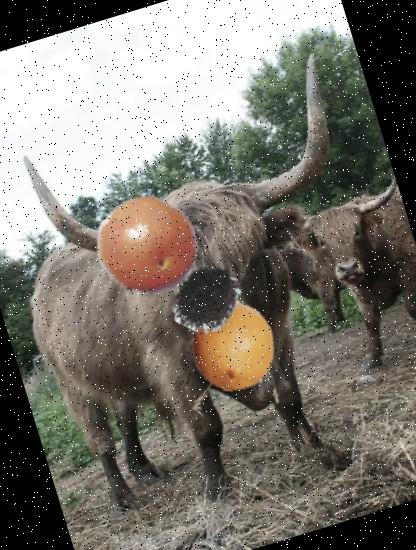Lemon: (176, 288, 290, 402)
Rambutan: (166, 255, 252, 342)
Tangelo: (83, 182, 210, 309)
